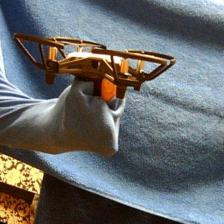drone: (14, 32, 176, 99)
